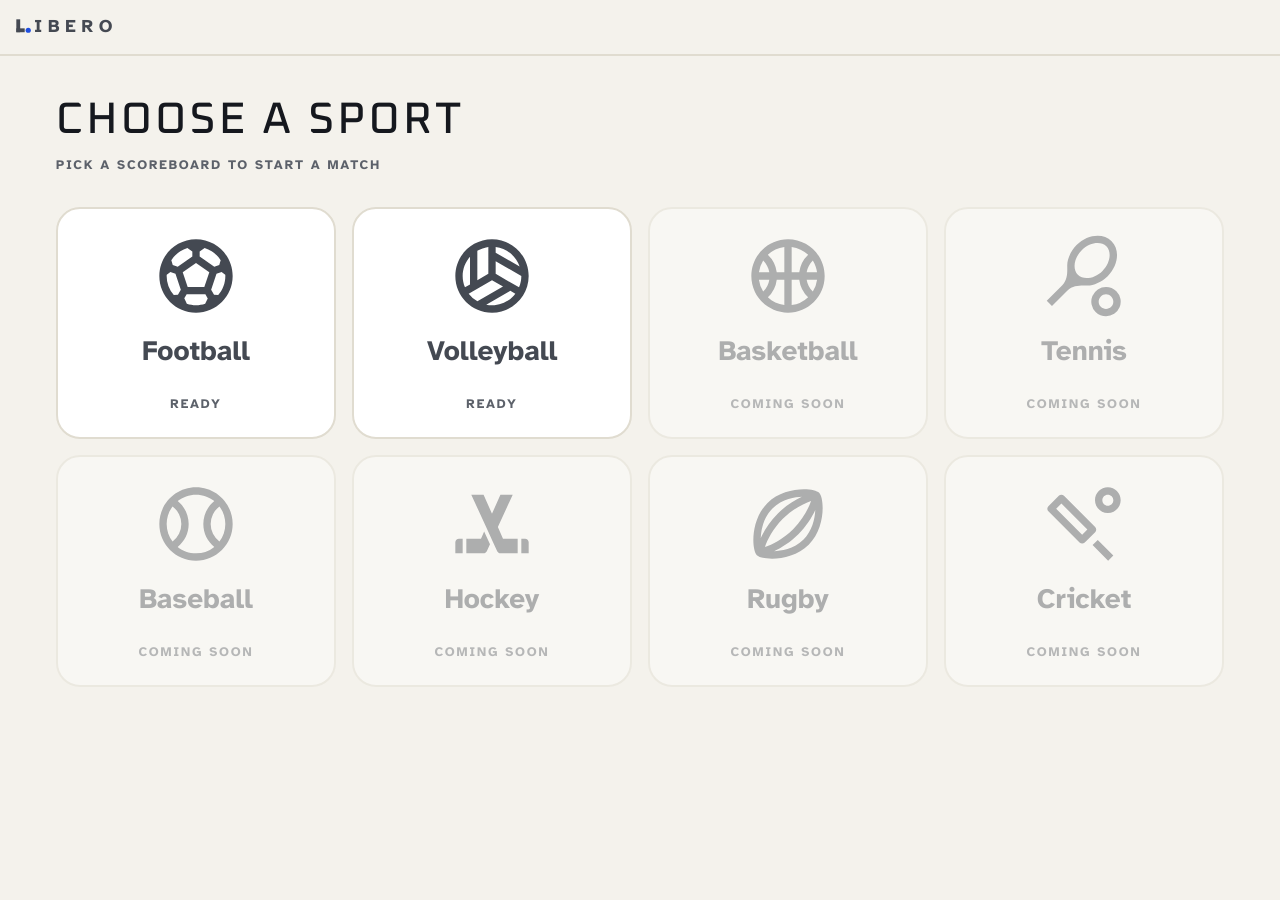
it: Sport selection page › starts the match as soon as a ready sport is chosen
Click the button "Volleyball Ready".
click(492, 323)  # box top-left (352, 207), bottom-right (632, 439)
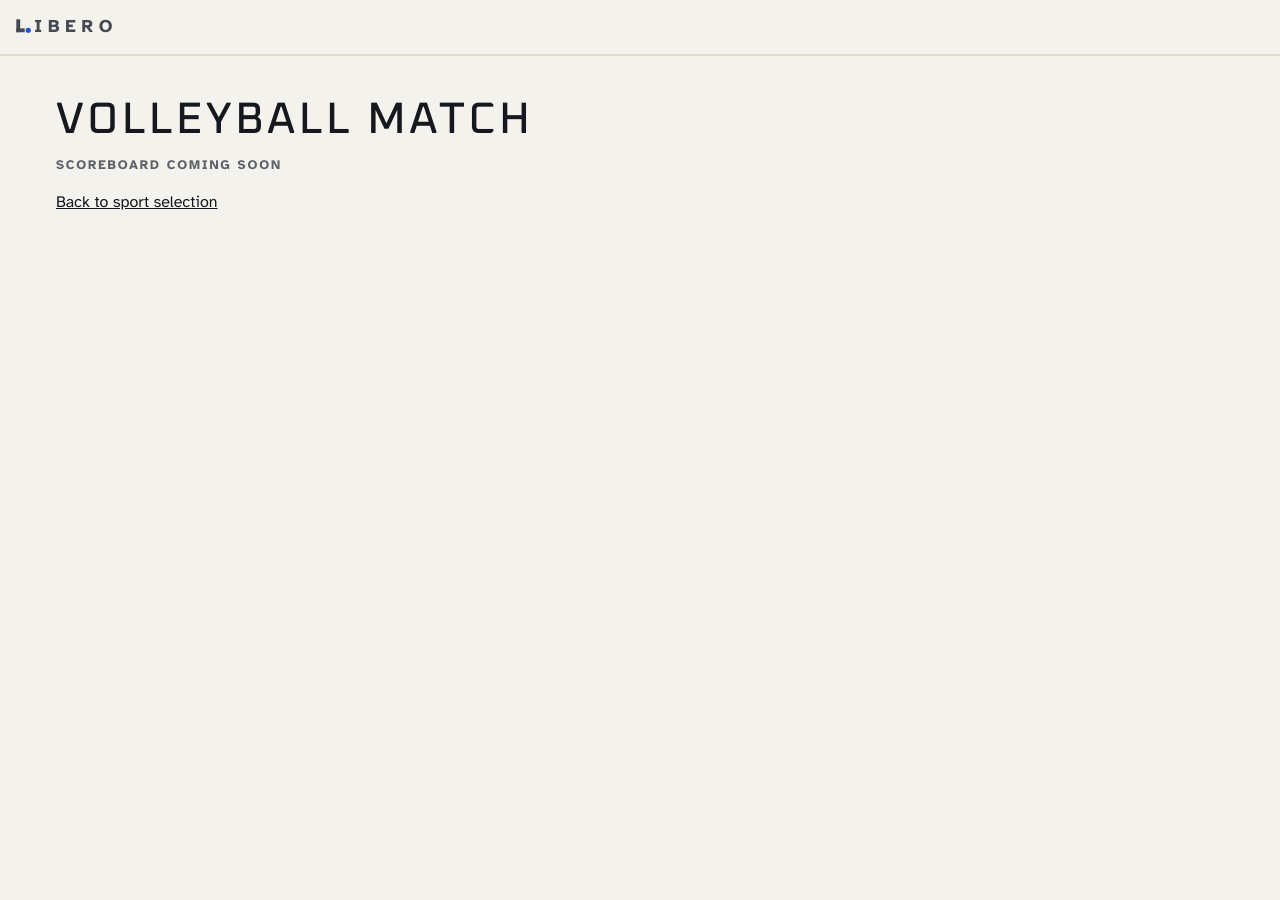
Result: the heading "Volleyball match" is shown at top-left (56, 98), bottom-right (533, 142)
